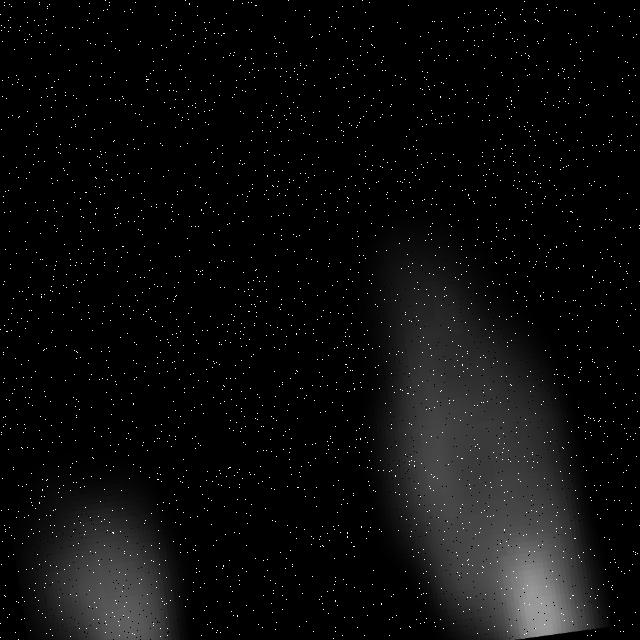person: (264, 137, 636, 640), (1, 394, 215, 640)
